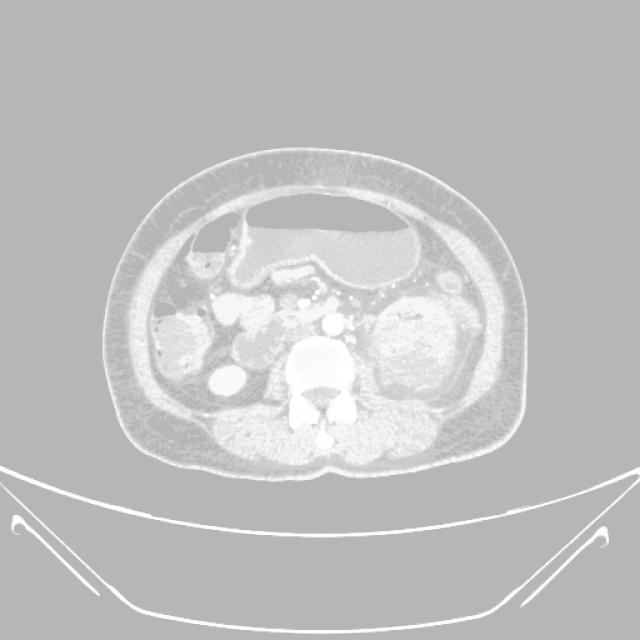TUMOR: (134, 220, 492, 391)
